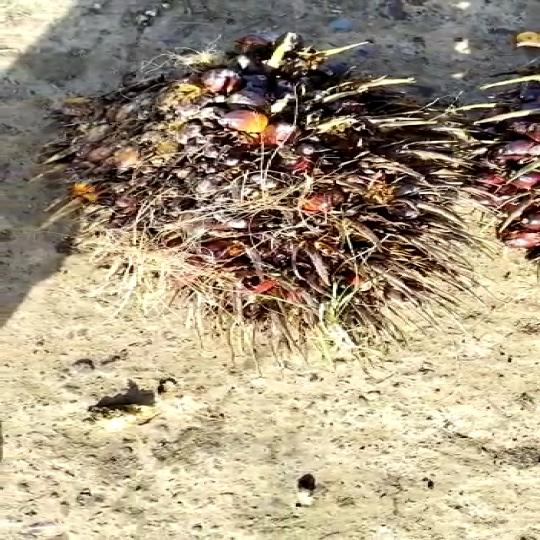terlalu masak: (50, 34, 525, 370)
